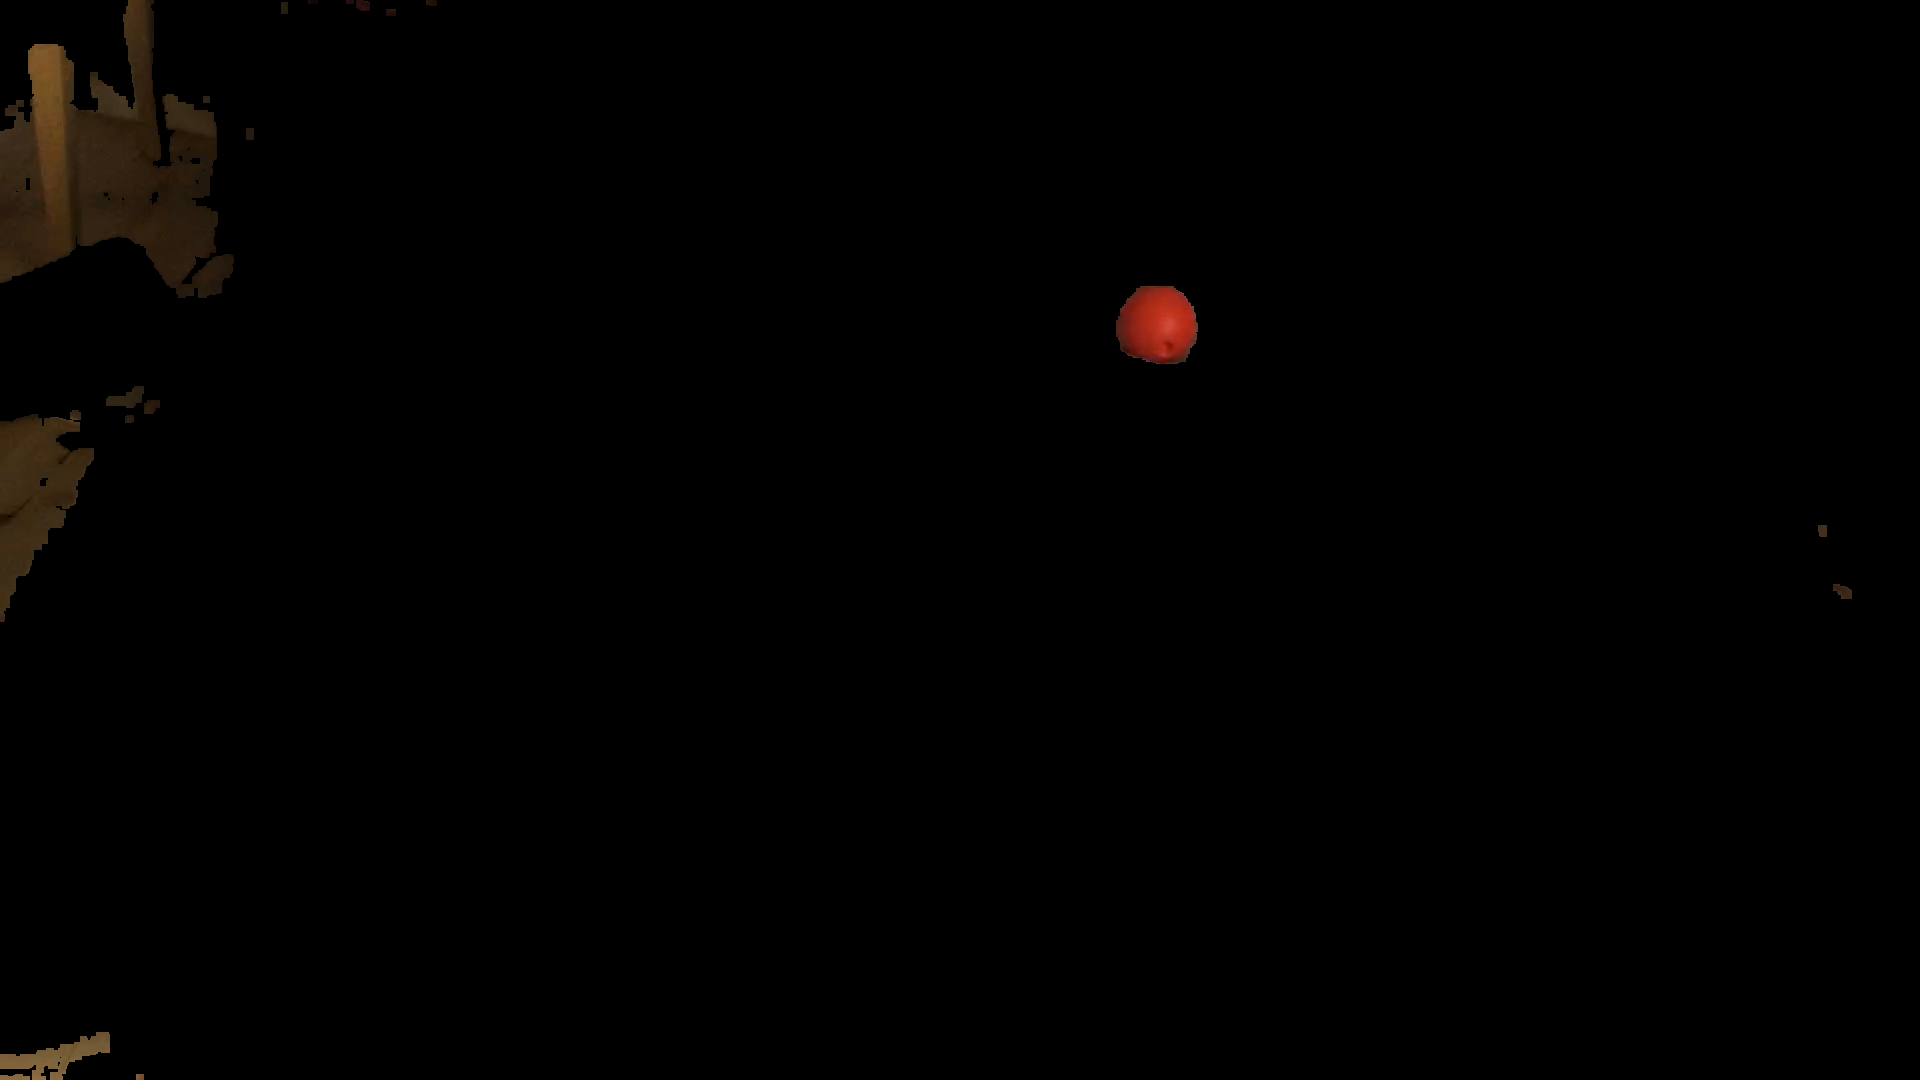Ball: (1117, 287, 1195, 361)
